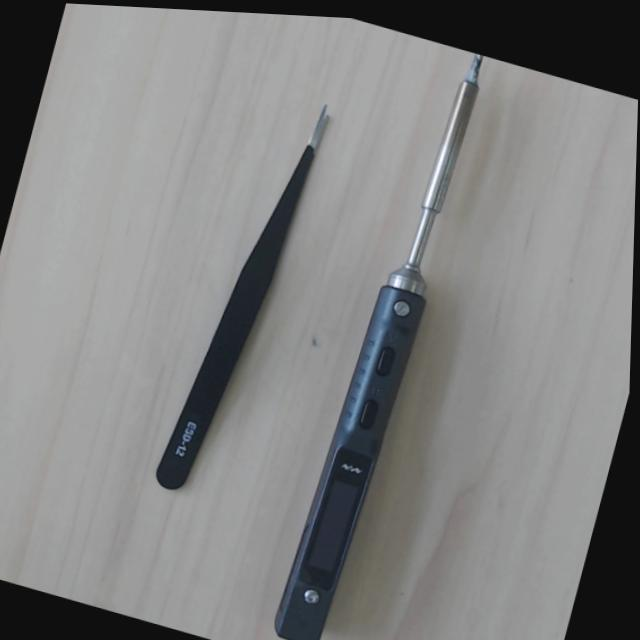Soldering-Iron: (270, 46, 502, 640)
Tweezers: (150, 99, 345, 493)
